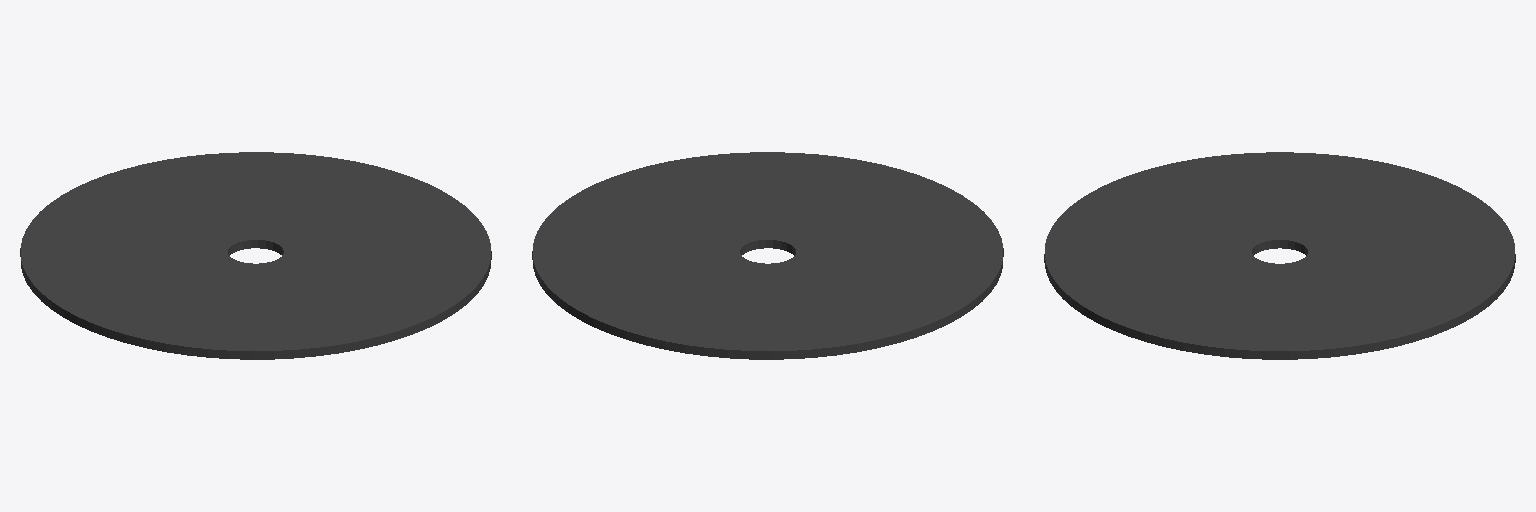
The robot description file, URDF, robot "braccio":
<?xml version="1.0" ?>
<!-- =================================================================================== -->
<!-- |    This document was autogenerated by xacro from braccio.xacro                  | -->
<!-- |    EDITING THIS FILE BY HAND IS NOT RECOMMENDED                                 | -->
<!-- =================================================================================== -->
<robot name="braccio">
    <material name="silver_default">
        <color rgba="0.700 0.700 0.700 1.000" />
    </material>
    <material name="generico">
        <color rgba="0.3137254901960784 0.3137254901960784 0.3137254901960784 1.0" />
    </material>
    <material name="opaque255255255">
        <color rgba="0.3137254901960784 0.3137254901960784 0.3137254901960784 1.0" />
    </material>
    <material name="krmozott_tengely">
        <color rgba="0.3137254901960784 0.3137254901960784 0.3137254901960784 1.0" />
    </material>
    <material name="liscia_rosso">
        <color rgba="0.3137254901960784 0.3137254901960784 0.3137254901960784 1.0" />
    </material>
    <material name="default">
        <color rgba="0.3137254901960784 0.3137254901960784 0.3137254901960784 1.0" />
    </material>
    <material name="liscia_giallo">
        <color rgba="0.3137254901960784 0.3137254901960784 0.3137254901960784 1.0" />
    </material>
    <material name="liscia_arancione_chiaro">
        <color rgba="0.3137254901960784 0.3137254901960784 0.3137254901960784 1.0" />
    </material>
    <transmission name="Azimuth_joint_tran">
        <type>transmission_interface/SimpleTransmission</type>
        <joint name="Azimuth_joint">
            <hardwareInterface>hardware_interface/EffortJointInterface</hardwareInterface>
        </joint>
        <actuator name="Azimuth_joint_actr">
            <hardwareInterface>hardware_interface/EffortJointInterface</hardwareInterface>
            <mechanicalReduction>1</mechanicalReduction>
        </actuator>
    </transmission>
    <transmission name="Elevation_joint_tran">
        <type>transmission_interface/SimpleTransmission</type>
        <joint name="Elevation_joint">
            <hardwareInterface>hardware_interface/EffortJointInterface</hardwareInterface>
        </joint>
        <actuator name="Elevation_joint_actr">
            <hardwareInterface>hardware_interface/EffortJointInterface</hardwareInterface>
            <mechanicalReduction>1</mechanicalReduction>
        </actuator>
    </transmission>
    <transmission name="Elbow_joint_tran">
        <type>transmission_interface/SimpleTransmission</type>
        <joint name="Elbow_joint">
            <hardwareInterface>hardware_interface/EffortJointInterface</hardwareInterface>
        </joint>
        <actuator name="Elbow_joint_actr">
            <hardwareInterface>hardware_interface/EffortJointInterface</hardwareInterface>
            <mechanicalReduction>1</mechanicalReduction>
        </actuator>
    </transmission>
    <transmission name="joint_3_tran">
        <type>transmission_interface/SimpleTransmission</type>
        <joint name="joint_3">
            <hardwareInterface>hardware_interface/EffortJointInterface</hardwareInterface>
        </joint>
        <actuator name="joint_3_actr">
            <hardwareInterface>hardware_interface/EffortJointInterface</hardwareInterface>
            <mechanicalReduction>1</mechanicalReduction>
        </actuator>
    </transmission>
    <transmission name="wrist_pitch_joint_tran">
        <type>transmission_interface/SimpleTransmission</type>
        <joint name="wrist_pitch_joint">
            <hardwareInterface>hardware_interface/EffortJointInterface</hardwareInterface>
        </joint>
        <actuator name="wrist_pitch_joint_actr">
            <hardwareInterface>hardware_interface/EffortJointInterface</hardwareInterface>
            <mechanicalReduction>1</mechanicalReduction>
        </actuator>
    </transmission>
    <transmission name="wrist_roll_joint_tran">
        <type>transmission_interface/SimpleTransmission</type>
        <joint name="wrist_roll_joint">
            <hardwareInterface>hardware_interface/EffortJointInterface</hardwareInterface>
        </joint>
        <actuator name="wrist_roll_joint_actr">
            <hardwareInterface>hardware_interface/EffortJointInterface</hardwareInterface>
            <mechanicalReduction>1</mechanicalReduction>
        </actuator>
    </transmission>
    <gazebo>
        <plugin filename="libgazebo_ros_control.so" name="control">
            <robotNamespace>braccio</robotNamespace>
        </plugin>
        <plugin filename="libgazebo_ros_control.so" name="gazebo_ros_control">
            <robotNamespace>/</robotNamespace>
        </plugin>
    </gazebo>
    <gazebo reference="base_link">
        <material>Gazebo/Silver</material>
        <mu1>0.2</mu1>
        <mu2>0.2</mu2>
        <selfCollide>true</selfCollide>
        <gravity>true</gravity>
    </gazebo>
    <gazebo reference="Base_braccio_1">
        <material>Gazebo/Silver</material>
        <mu1>0.2</mu1>
        <mu2>0.2</mu2>
        <selfCollide>true</selfCollide>
    </gazebo>
    <gazebo reference="link1_1">
        <material>Gazebo/Silver</material>
        <mu1>0.2</mu1>
        <mu2>0.2</mu2>
        <selfCollide>true</selfCollide>
    </gazebo>
    <gazebo reference="Elbow_1">
        <material>Gazebo/Silver</material>
        <mu1>0.2</mu1>
        <mu2>0.2</mu2>
        <selfCollide>true</selfCollide>
    </gazebo>
    <gazebo reference="Link2_1">
        <material>Gazebo/Silver</material>
        <mu1>0.2</mu1>
        <mu2>0.2</mu2>
        <selfCollide>true</selfCollide>
    </gazebo>
    <gazebo reference="wrist_1">
        <material>Gazebo/Silver</material>
        <mu1>0.2</mu1>
        <mu2>0.2</mu2>
        <selfCollide>true</selfCollide>
    </gazebo>
    <gazebo reference="palm_1">
        <material>Gazebo/Silver</material>
        <mu1>0.2</mu1>
        <mu2>0.2</mu2>
        <selfCollide>true</selfCollide>
    </gazebo>
    <link name="world" />
    <joint name="fixed" type="fixed">
        <parent link="world" />
        <child link="base_link" />
    </joint>
    <link name="base_link">
        <inertial>
            <origin rpy="0 0 0" xyz="0.0011783676870079772 1.0119793125755727e-05 0.20000571702403733" />
            <mass value="962.5851363558244" />
            <inertia ixx="25.726817" ixy="0.002039" ixz="0.061446" iyy="58.481615" iyz="0.00035" izz="58.394457" />
        </inertial>
        <visual>
            <origin rpy="0 0 0" xyz="0 0 0" />
            <geometry>
                <mesh filename="package://braccio_description/meshes/base_link.stl" scale="0.001 0.001 0.001" />
            </geometry>
            <material name="generico" />
        </visual>
        <collision>
            <origin rpy="0 0 0" xyz="0 0 0" />
            <geometry>
                <mesh filename="package://braccio_description/meshes/base_link.stl" scale="0.001 0.001 0.001" />
            </geometry>
        </collision>
    </link>
    <link name="Base_braccio_1">
        <inertial>
            <origin rpy="0 0 0" xyz="-0.08476368759412747 0.00011142407722511134 0.0324262511297288" />
            <mass value="1.5100627333156982" />
            <inertia ixx="0.000942" ixy="4e-06" ixz="-0.000374" iyy="0.004339" iyz="0.0" izz="0.004119" />
        </inertial>
        <visual>
            <origin rpy="0 0 0" xyz="-0.325006 0.0 -0.419949" />
            <geometry>
                <mesh filename="package://braccio_description/meshes/Base_braccio_1.stl" scale="0.001 0.001 0.001" />
            </geometry>
            <material name="opaque255255255" />
        </visual>
        <collision>
            <origin rpy="0 0 0" xyz="-0.325006 0.0 -0.419949" />
            <geometry>
                <mesh filename="package://braccio_description/meshes/Base_braccio_1.stl" scale="0.001 0.001 0.001" />
            </geometry>
        </collision>
    </link>
    <link name="link1_1">
        <inertial>
            <origin rpy="0 0 0" xyz="0.00032927538198956885 0.002383864798820145 0.14449735433995625" />
            <mass value="2.9321462543284906" />
            <inertia ixx="0.072624" ixy="2e-06" ixz="2.7e-05" iyy="0.068167" iyz="0.000225" izz="0.008492" />
        </inertial>
        <visual>
            <origin rpy="0 0 0" xyz="-0.325006 0.0 -0.477449" />
            <geometry>
                <mesh filename="package://braccio_description/meshes/link1_1.stl" scale="0.001 0.001 0.001" />
            </geometry>
            <material name="krmozott_tengely" />
        </visual>
        <collision>
            <origin rpy="0 0 0" xyz="-0.325006 0.0 -0.477449" />
            <geometry>
                <mesh filename="package://braccio_description/meshes/link1_1.stl" scale="0.001 0.001 0.001" />
            </geometry>
        </collision>
    </link>
    <link name="Elbow_1">
        <inertial>
            <origin rpy="0 0 0" xyz="-0.0367119124758008 -0.00016653450735915358 -0.007157327333499386" />
            <mass value="0.6426736774037254" />
            <inertia ixx="0.000753" ixy="6e-06" ixz="-0.000225" iyy="0.001437" iyz="2e-06" izz="0.001393" />
        </inertial>
        <visual>
            <origin rpy="0 0 0" xyz="-0.325006 0.0 -0.822449" />
            <geometry>
                <mesh filename="package://braccio_description/meshes/Elbow_1.stl" scale="0.001 0.001 0.001" />
            </geometry>
            <material name="liscia_rosso" />
        </visual>
        <collision>
            <origin rpy="0 0 0" xyz="-0.325006 0.0 -0.822449" />
            <geometry>
                <mesh filename="package://braccio_description/meshes/Elbow_1.stl" scale="0.001 0.001 0.001" />
            </geometry>
        </collision>
    </link>
    <link name="Link2_1">
        <inertial>
            <origin rpy="0 0 0" xyz="0.00013861422739491758 -0.00012821429677497114 0.02594338331463375" />
            <mass value="0.9299242223980831" />
            <inertia ixx="0.026509" ixy="0.0" ixz="0.000384" iyy="0.027097" iyz="3.5e-05" izz="0.00115" />
        </inertial>
        <visual>
            <origin rpy="0 0 0" xyz="-0.325006 0.0 -0.784449" />
            <geometry>
                <mesh filename="package://braccio_description/meshes/Link2_1.stl" scale="0.001 0.001 0.001" />
            </geometry>
            <material name="default" />
        </visual>
        <collision>
            <origin rpy="0 0 0" xyz="-0.325006 0.0 -0.784449" />
            <geometry>
                <mesh filename="package://braccio_description/meshes/Link2_1.stl" scale="0.001 0.001 0.001" />
            </geometry>
        </collision>
    </link>
    <link name="wrist_1">
        <inertial>
            <origin rpy="0 0 0" xyz="2.9160791963467325e-05 -0.0026833097699450817 0.00015988220563789568" />
            <mass value="0.07667109056502067" />
            <inertia ixx="6e-05" ixy="-0.0" ixz="-0.0" iyy="3.3e-05" iyz="4e-06" izz="6.5e-05" />
        </inertial>
        <visual>
            <origin rpy="0 0 0" xyz="-0.325306 0.0002 -1.166901" />
            <geometry>
                <mesh filename="package://braccio_description/meshes/wrist_1.stl" scale="0.001 0.001 0.001" />
            </geometry>
            <material name="liscia_arancione_chiaro" />
        </visual>
        <collision>
            <origin rpy="0 0 0" xyz="-0.325306 0.0002 -1.166901" />
            <geometry>
                <mesh filename="package://braccio_description/meshes/wrist_1.stl" scale="0.001 0.001 0.001" />
            </geometry>
        </collision>
    </link>
    <link name="palm_1">
        <inertial>
            <origin rpy="0 0 0" xyz="-0.00010488173102107812 -3.620761348670275e-08 0.018527069552811692" />
            <mass value="0.03179176708359849" />
            <inertia ixx="7e-06" ixy="-0.0" ixz="-0.0" iyy="7e-06" iyz="-0.0" izz="9e-06" />
        </inertial>
        <visual>
            <origin rpy="0 0 0" xyz="-0.325397 0.0002 -1.150902" />
            <geometry>
                <mesh filename="package://braccio_description/meshes/palm_1.stl" scale="0.001 0.001 0.001" />
            </geometry>
            <material name="liscia_giallo" />
        </visual>
        <collision>
            <origin rpy="0 0 0" xyz="-0.325397 0.0002 -1.150902" />
            <geometry>
                <mesh filename="package://braccio_description/meshes/palm_1.stl" scale="0.001 0.001 0.001" />
            </geometry>
        </collision>
    </link>
    <joint name="Azimuth_joint" type="continuous">
        <origin rpy="0 0 0" xyz="0.325006 0.0 0.419949" />
        <parent link="base_link" />
        <child link="Base_braccio_1" />
        <axis xyz="-0.0 0.0 1.0" />
    </joint>
    <joint name="Elevation_joint" type="continuous">
        <origin rpy="0 0 0" xyz="0.0 0.0 0.0575" />
        <parent link="Base_braccio_1" />
        <child link="link1_1" />
        <axis xyz="-0.0 -1.0 0.0" />
    </joint>
    <joint name="Elbow_joint" type="continuous">
        <origin rpy="0 0 0" xyz="0.0 0.0 0.345" />
        <parent link="link1_1" />
        <child link="Elbow_1" />
        <axis xyz="-0.0 -1.0 0.0" />
    </joint>
    <joint name="joint_3" type="continuous">
        <origin rpy="0 0 0" xyz="0.0 0.0 -0.038" />
        <parent link="Elbow_1" />
        <child link="Link2_1" />
        <axis xyz="-0.0 0.0 1.0" />
    </joint>
    <joint name="wrist_pitch_joint" type="continuous">
        <origin rpy="0 0 0" xyz="0.0003 -0.0002 0.382452" />
        <parent link="Link2_1" />
        <child link="wrist_1" />
        <axis xyz="0.0 1.0 -0.0" />
    </joint>
    <joint name="wrist_roll_joint" type="continuous">
        <origin rpy="0 0 0" xyz="9.1e-05 0.0 -0.015999" />
        <parent link="wrist_1" />
        <child link="palm_1" />
        <axis xyz="-0.005651 -0.0 0.999984" />
    </joint>
</robot>

--- What the picture shows (computed from the rendered views, not written in the file) ---
3 views of the same robot in one strip: view 1: azimuth 30°, elevation 25°; view 2: azimuth 150°, elevation 25°; view 3: azimuth 270°, elevation 25° (orthographic).
Robot: braccio — 8 links, 7 joints (6 continuous, 1 fixed); root link world; default pose: all joints at 0.
Visible links, largest first — view 1: base_link; view 2: base_link; view 3: base_link.
Boxes of the visible links, x1,y1,x2,y2 form: base_link: (20, 152, 491, 359); base_link: (532, 152, 1003, 359); base_link: (1044, 152, 1515, 359).
Bounding box of the posed robot: 0.2499 × 0.2499 × 0.005 m (x, y, z).
1 mesh visuals loaded from 7 distinct referenced files (1 binary STL); not drawn: 6 (reference not matched to a file when rendering).